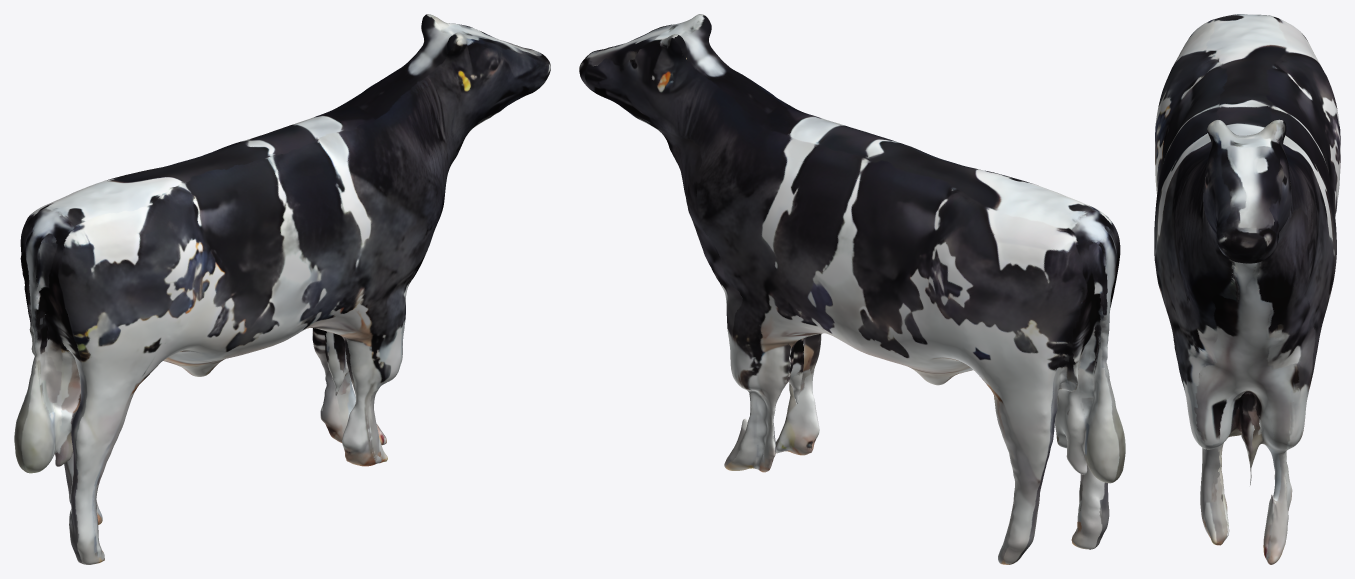
File: joven.glb
3 renders of one model, left to right at view 1: azimuth 30°, elevation 25°; view 2: azimuth 150°, elevation 25°; view 3: azimuth 270°, elevation 25°, orthographic. The views are drawn at different scales.
Parts seen in each view (by area): view 1: mesh; view 2: mesh; view 3: mesh.
Part boxes in pixels (bbox=[...]): mesh: bbox=[14, 14, 550, 564]; mesh: bbox=[579, 14, 1125, 564]; mesh: bbox=[1154, 14, 1340, 564].
Size of the model in its own units: 1.73 by 1.36 by 0.4675.
Materials: 1 (1 with a texture image).
